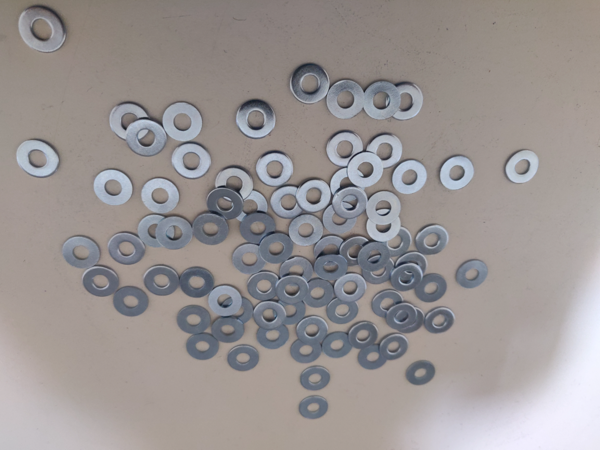circle: (17, 6, 66, 53), (16, 139, 60, 178), (110, 101, 151, 142), (290, 64, 331, 105), (237, 100, 277, 140), (164, 101, 203, 142), (127, 118, 167, 156), (327, 80, 365, 119), (387, 81, 424, 121), (95, 169, 133, 206), (172, 143, 211, 179), (142, 178, 180, 214), (365, 81, 401, 119), (348, 151, 384, 188), (216, 167, 254, 202), (256, 152, 294, 187), (326, 132, 364, 167), (367, 133, 403, 169), (392, 159, 428, 194), (156, 216, 193, 250), (330, 167, 367, 201), (440, 155, 475, 190), (232, 189, 268, 223), (139, 215, 176, 248), (207, 187, 244, 220), (108, 233, 146, 265), (270, 185, 304, 220), (296, 180, 331, 214), (64, 237, 101, 269), (506, 149, 539, 184), (333, 187, 368, 220), (367, 192, 402, 225), (83, 266, 120, 297), (192, 214, 229, 245), (232, 243, 267, 275), (367, 210, 402, 242), (260, 233, 294, 265), (324, 202, 358, 234), (180, 267, 215, 298), (241, 213, 276, 244), (290, 214, 323, 246), (280, 256, 314, 287), (114, 287, 149, 317), (145, 266, 180, 296), (208, 286, 243, 316), (339, 236, 372, 267), (358, 241, 391, 272), (380, 226, 411, 258), (416, 225, 449, 255), (314, 236, 347, 266), (275, 276, 309, 305), (333, 274, 367, 303), (302, 279, 334, 309), (178, 306, 211, 335), (187, 332, 220, 361), (254, 301, 287, 330), (296, 316, 329, 345), (415, 274, 447, 303), (249, 272, 281, 301), (363, 256, 395, 285), (396, 253, 428, 282), (220, 297, 253, 325), (456, 261, 489, 289), (257, 321, 290, 349), (275, 297, 306, 326), (348, 321, 379, 350), (372, 290, 404, 318), (391, 264, 423, 292), (212, 316, 245, 343), (315, 254, 349, 280), (328, 296, 358, 325), (424, 307, 456, 334), (323, 332, 354, 359), (227, 346, 259, 372), (380, 333, 409, 361), (358, 344, 389, 370), (395, 308, 426, 334), (290, 338, 322, 363), (386, 304, 418, 329), (406, 361, 436, 386), (300, 367, 330, 391), (299, 397, 328, 420)
